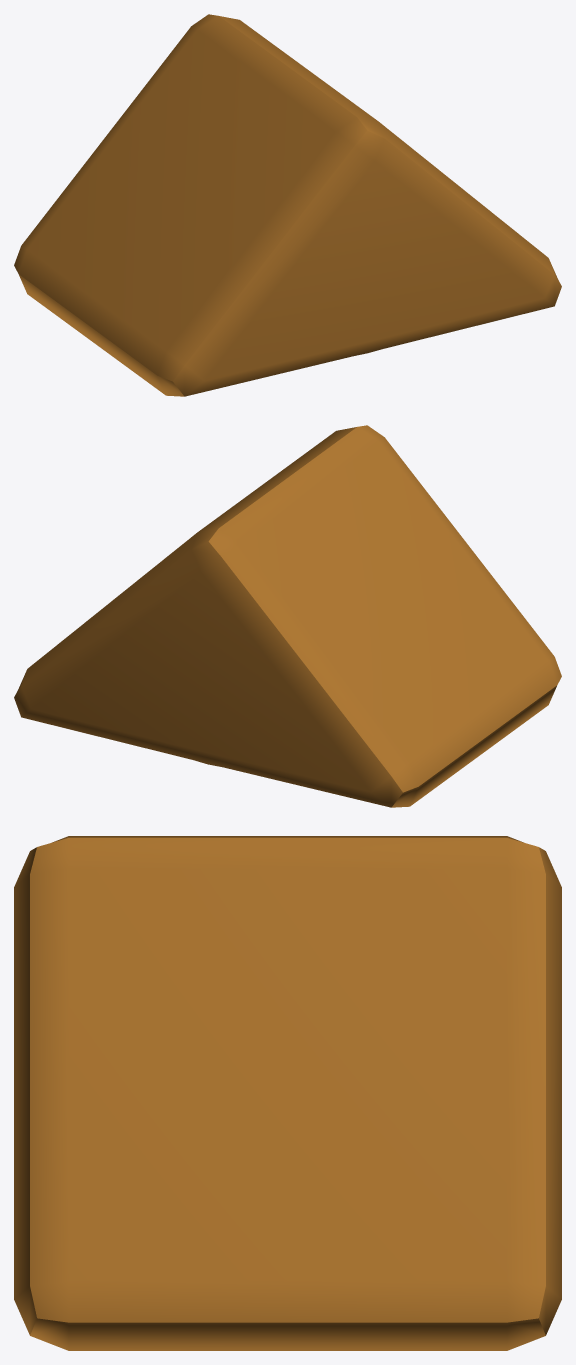
Rendered from Bloque_5_low.fbx.
The picture shows the model from 3 angles, top to bottom: view 1: azimuth 30°, elevation 25°; view 2: azimuth 150°, elevation 25°; view 3: azimuth 270°, elevation 25°; orthographic projection. The views are drawn at different scales.
Visible parts, largest first — view 1: bloque_5; view 2: bloque_5; view 3: bloque_5.
Boxes of the visible parts, x1,y1,x2,y2 form: bloque_5: [14, 14, 561, 396]; bloque_5: [14, 425, 561, 807]; bloque_5: [14, 836, 561, 1350].
Size of what is drawn, in the model's own units: 10.48 by 5.81 by 7.87.
